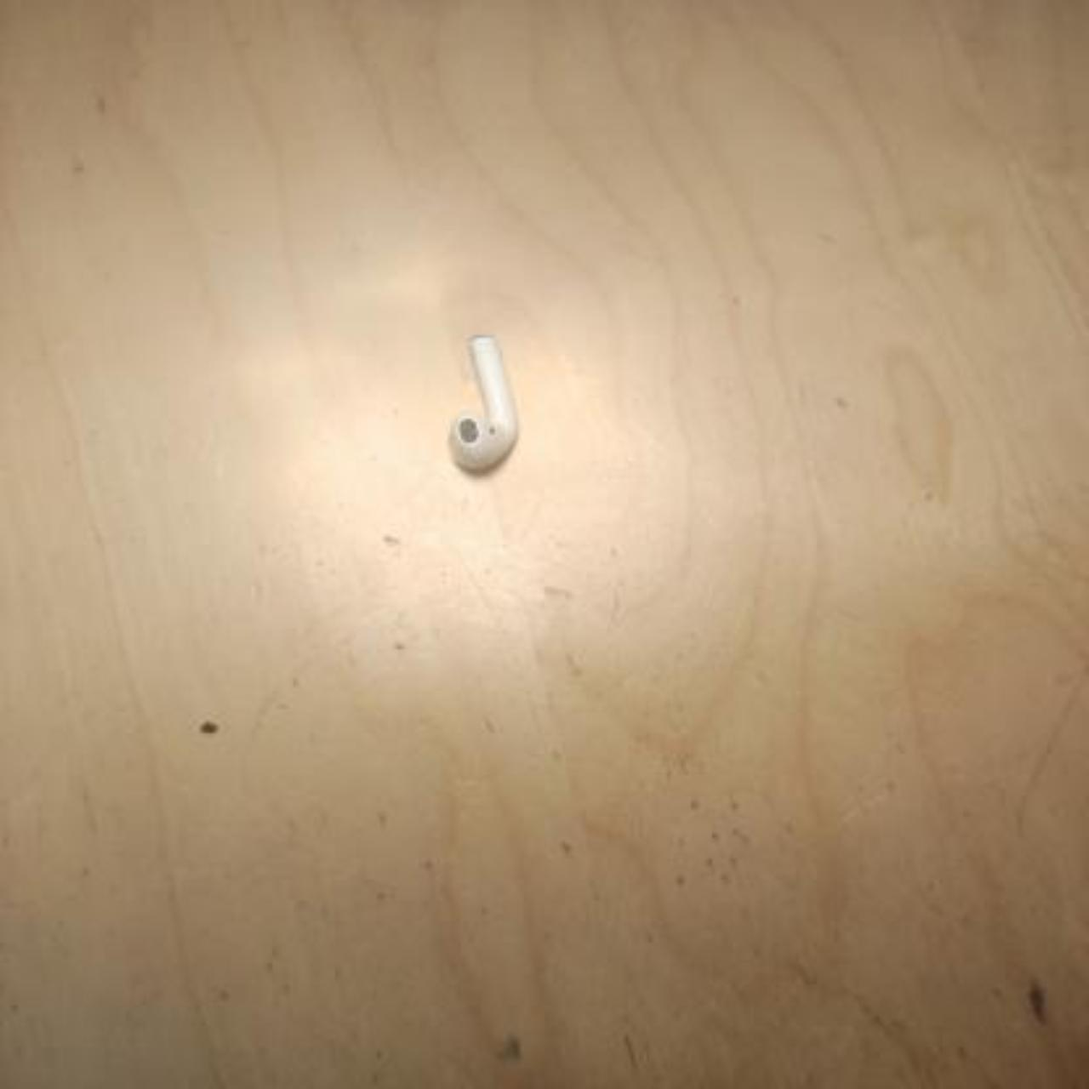Airpods_Units: (435, 334, 523, 470)
